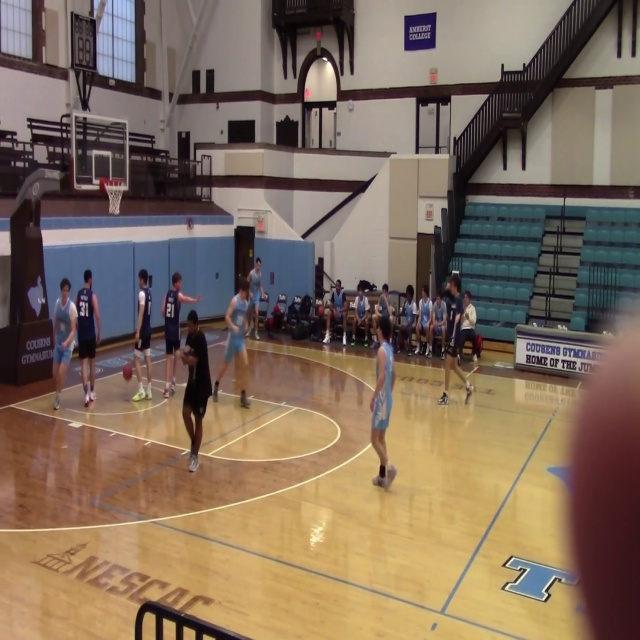Basketball: (183, 354, 198, 366), (123, 364, 132, 380), (138, 291, 145, 305)
